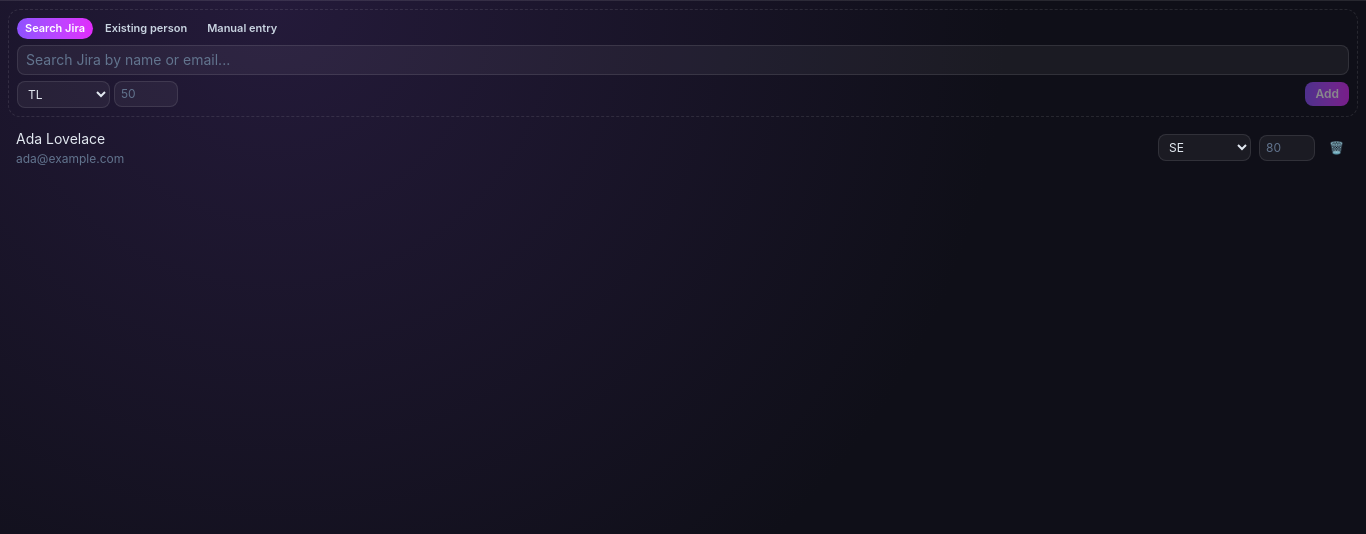
TeamRoster › adds a person via manual entry, creating the Person then the membership
The width and height of the screenshot is (1366, 534).
expect the text "Ada Lovelace" is shown: met, box [16,130,105,146]
Click the button "Manual entry" at (242, 28), box [199,18,285,38]
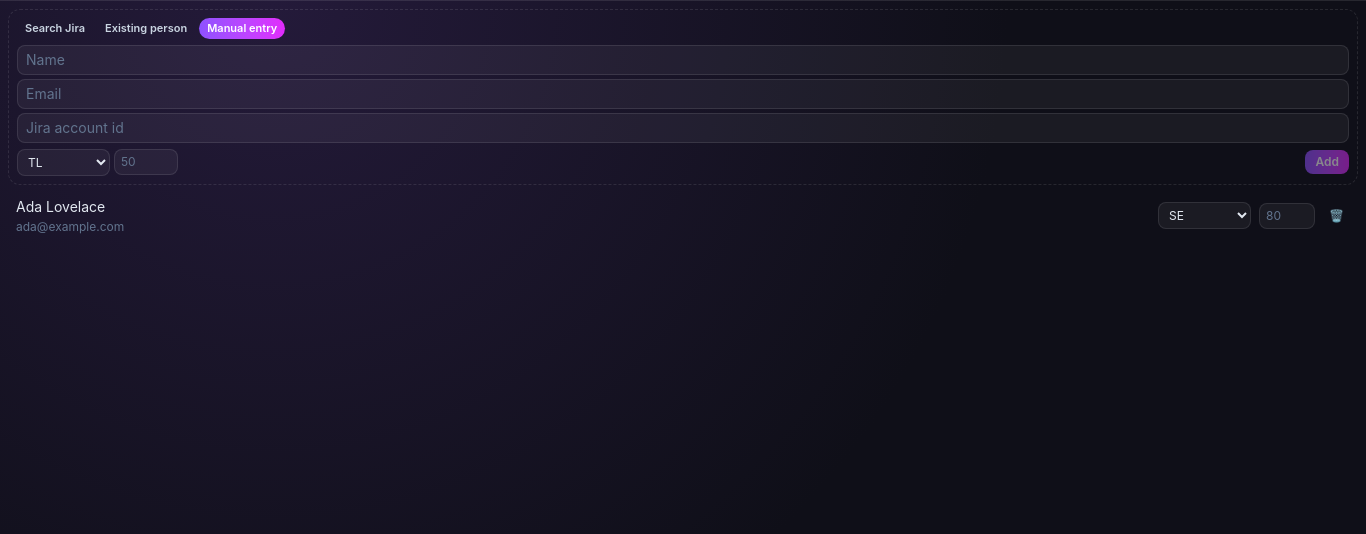
Type "Alan Turing" into the field named "New person name" at (683, 60), box [17,44,1349,74]
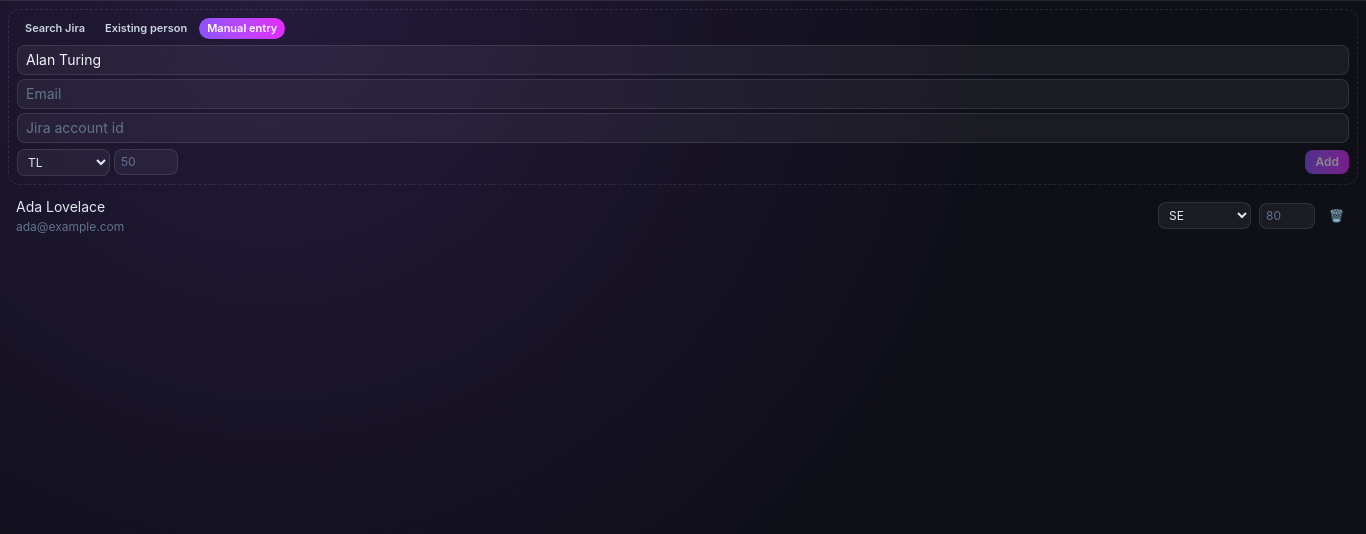
Type "alan@example.com" into the field named "New person email" at (683, 94), box [17,78,1349,108]
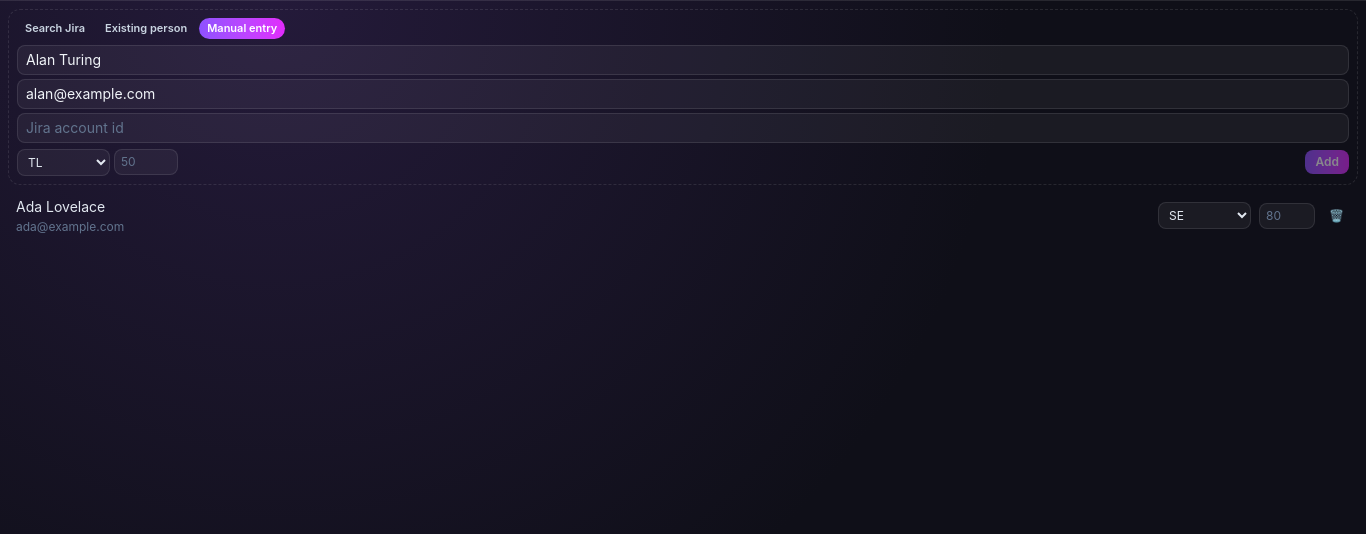
Type "acc-3" into the field named "New person Jira account id" at (683, 128), box [17,112,1349,142]
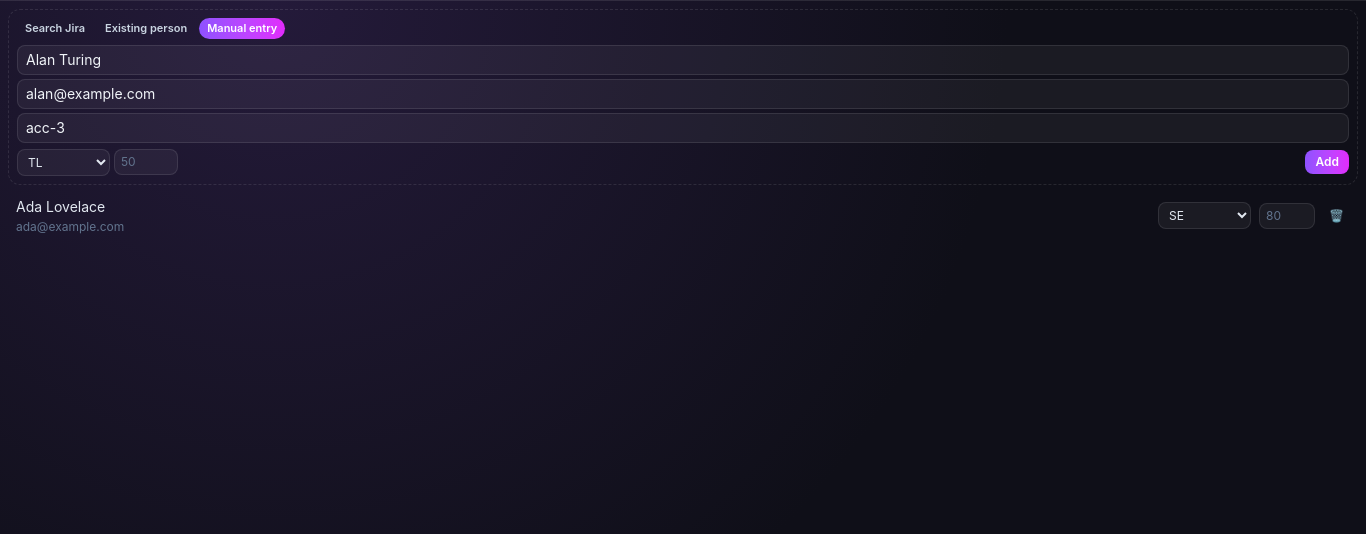
Click the button "Add" at (1327, 162), box [1306,150,1349,174]
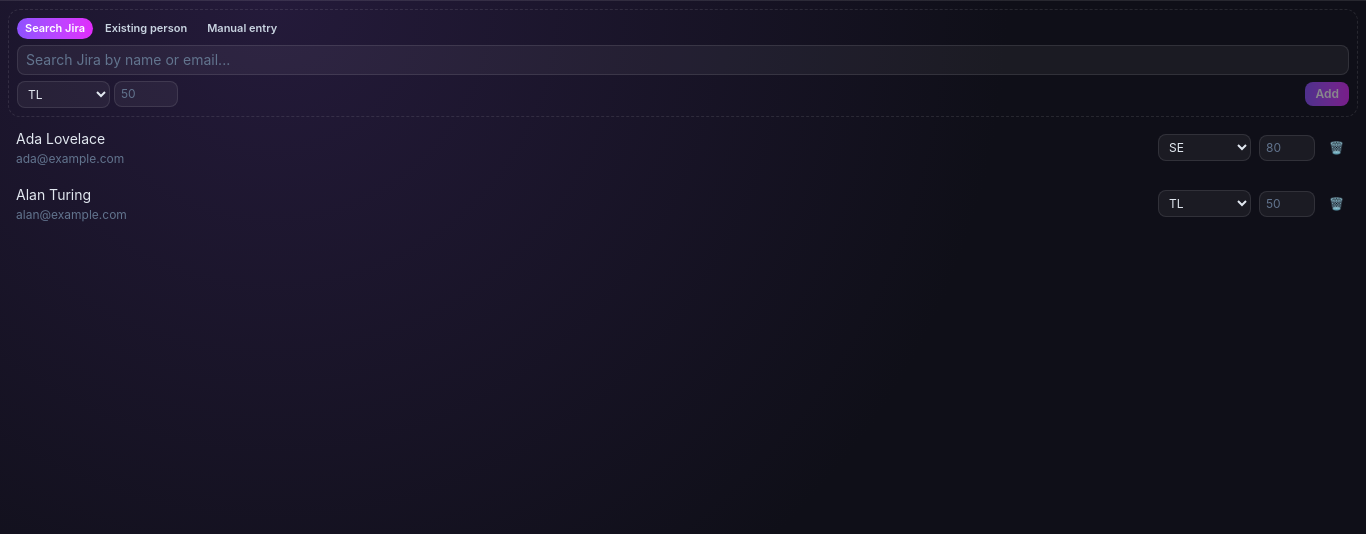
expect the text "Alan Turing" is shown: met, box [16,186,91,202]
